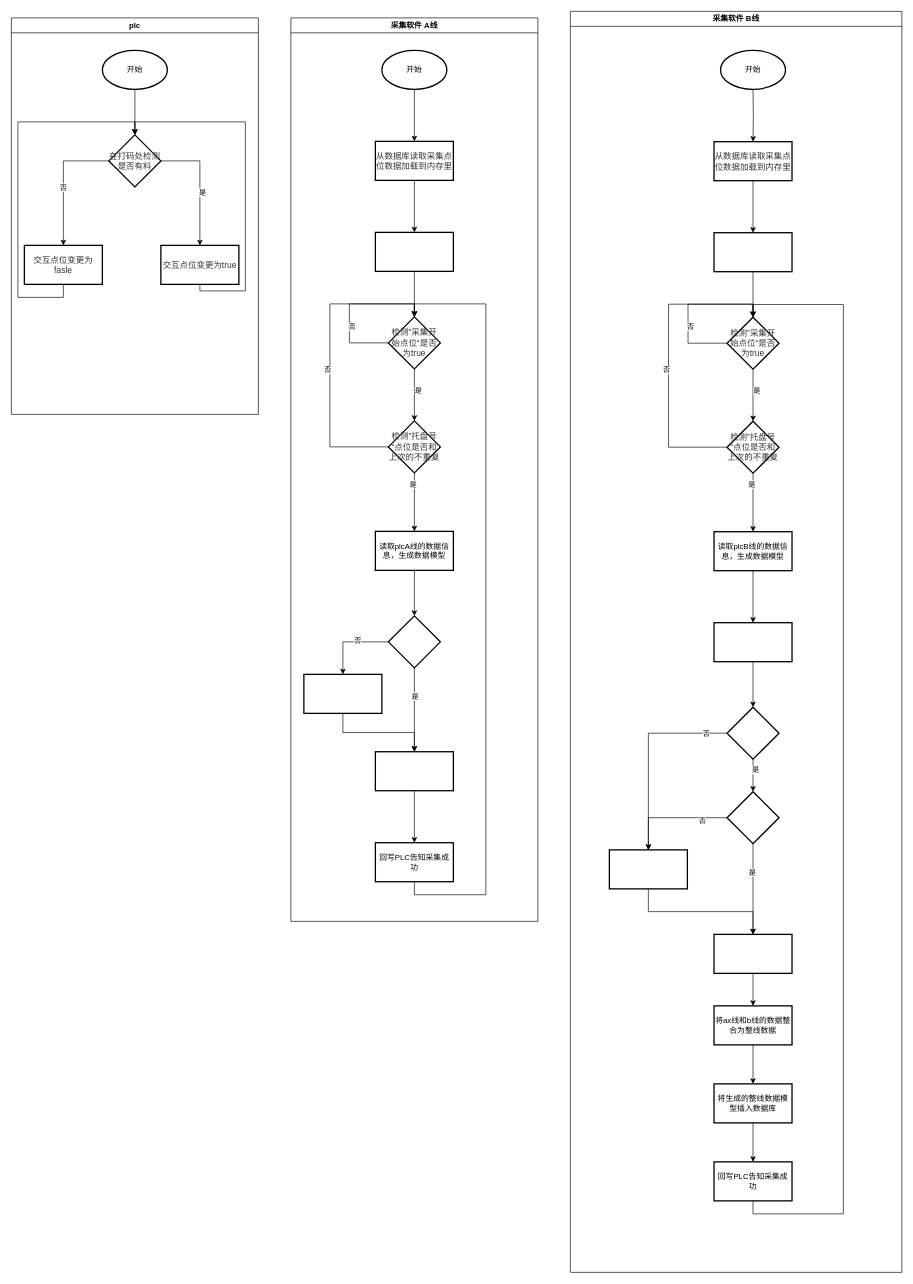
Image size: 913x1284. Some labels were removed from this diagram. Each missing label, with the centre of its shape:
"A线数据是否存在" goes at [752,733].
"取出”采集开始“和”托盘号A“点位" goes at [414,251].
"取出”采集开始“和”托盘号B“点位" goes at [752,252].
"在数据库查询未被使用的A线的数据编号等于B上“ A线托盘编号 ”的数据" goes at [752,642].
"将B线数据插入数据库" goes at [752,953].
"将生成的数据模型插入数据库" goes at [414,771].
"标记整线数据为NG" goes at [648,869].
"检测“ NG代码A ”是否不等于0" goes at [752,817].
"检测“ NG代码A ”是否等于0" goes at [414,641].
"生成一条NG数据插入装配整体数据表，并标记该条数据 已使用" goes at [342,693].
